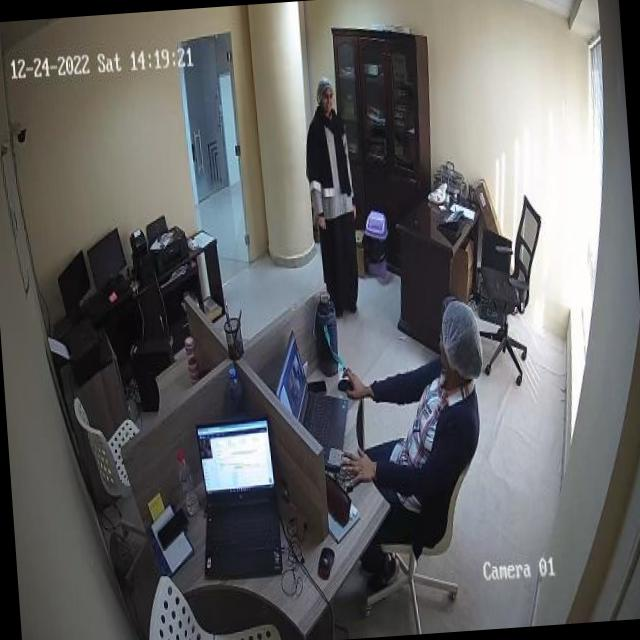hairnet: (440, 306, 481, 374), (316, 73, 338, 106)
